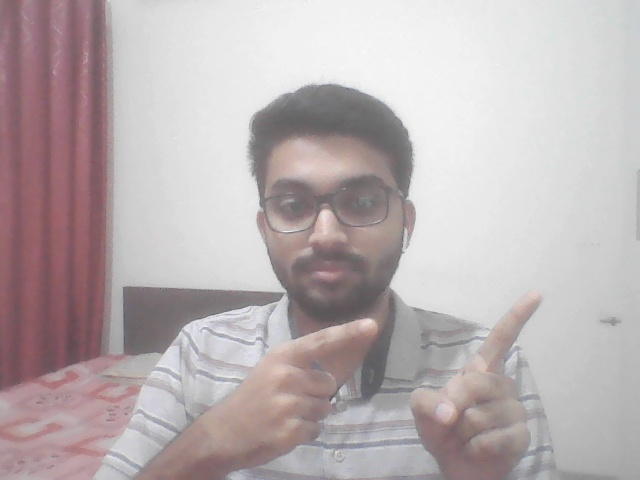go: (178, 283, 566, 472)
